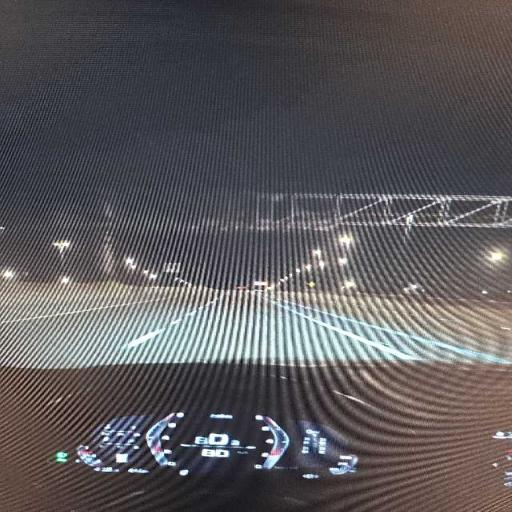lane: (0, 290, 511, 367), (276, 301, 511, 363)
